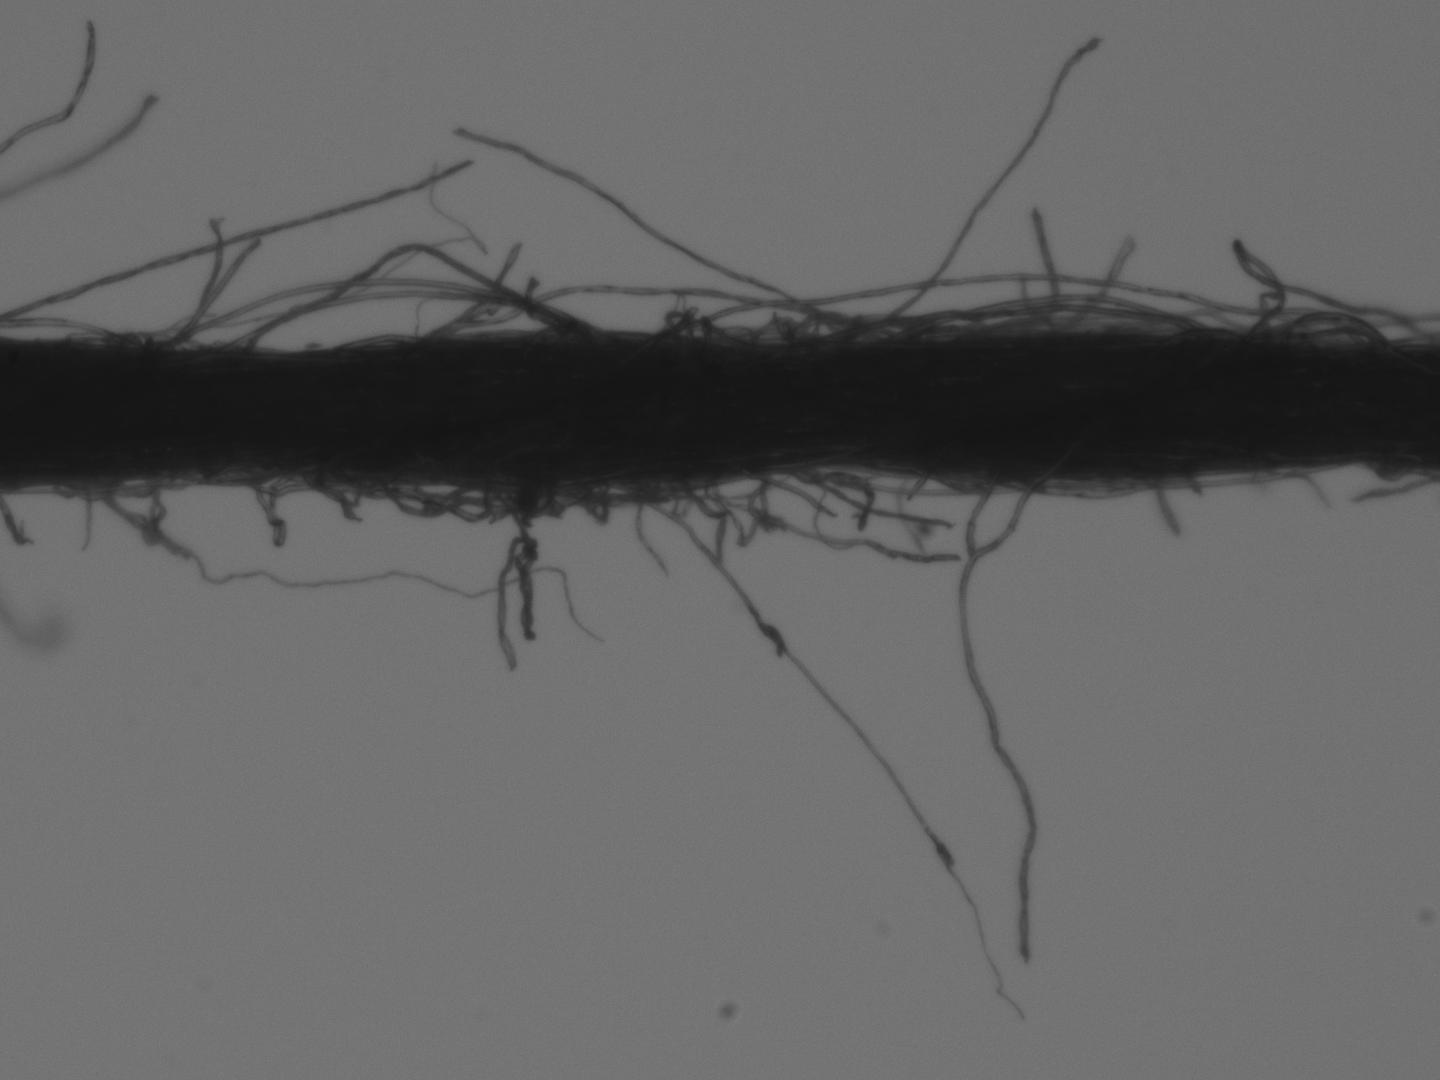loop_fiber: (238, 239, 571, 352), (438, 281, 852, 338), (895, 296, 1192, 338), (90, 478, 162, 546), (1271, 306, 1386, 347), (569, 470, 712, 501), (486, 487, 587, 523), (777, 313, 888, 346), (390, 481, 486, 518), (658, 310, 752, 345), (696, 471, 778, 501), (54, 476, 115, 505), (754, 319, 816, 343), (571, 482, 607, 520)
protruding_fiber: (0, 158, 476, 323), (875, 31, 1106, 330), (959, 475, 1045, 967), (170, 230, 263, 354), (166, 214, 220, 346), (756, 472, 840, 516), (1032, 199, 1059, 312), (964, 478, 993, 552)
